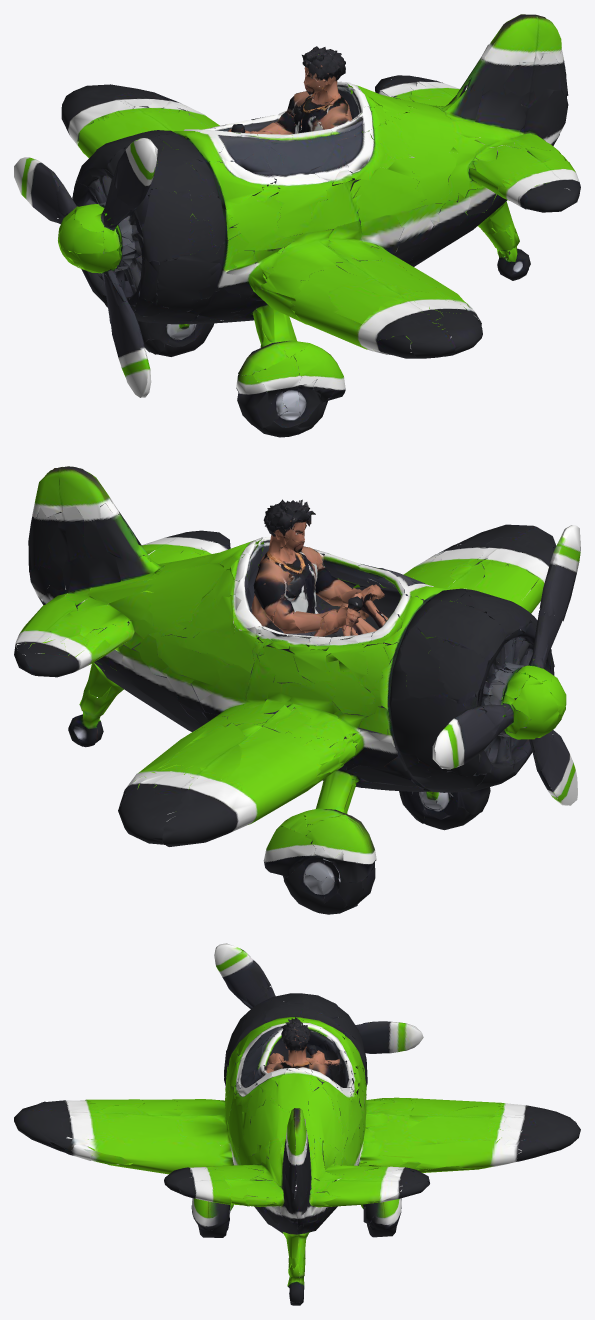
Rendered from v-d5a0bbed.plane.glb.
The picture shows the model from 3 angles, top to bottom: view 1: azimuth 30°, elevation 25°; view 2: azimuth 150°, elevation 25°; view 3: azimuth 270°, elevation 25°; orthographic projection. The views are drawn at different scales.
Visible parts, largest first — view 1: Mesh_0; view 2: Mesh_0; view 3: Mesh_0.
Part boxes in pixels (x1,y1,x2,y2): Mesh_0: (14,14,580,437); Mesh_0: (14,466,580,914); Mesh_0: (14,943,580,1305).
Size of the model in its own units: 3.61 by 2.19 by 4.6.
1 material, 1 textured.
